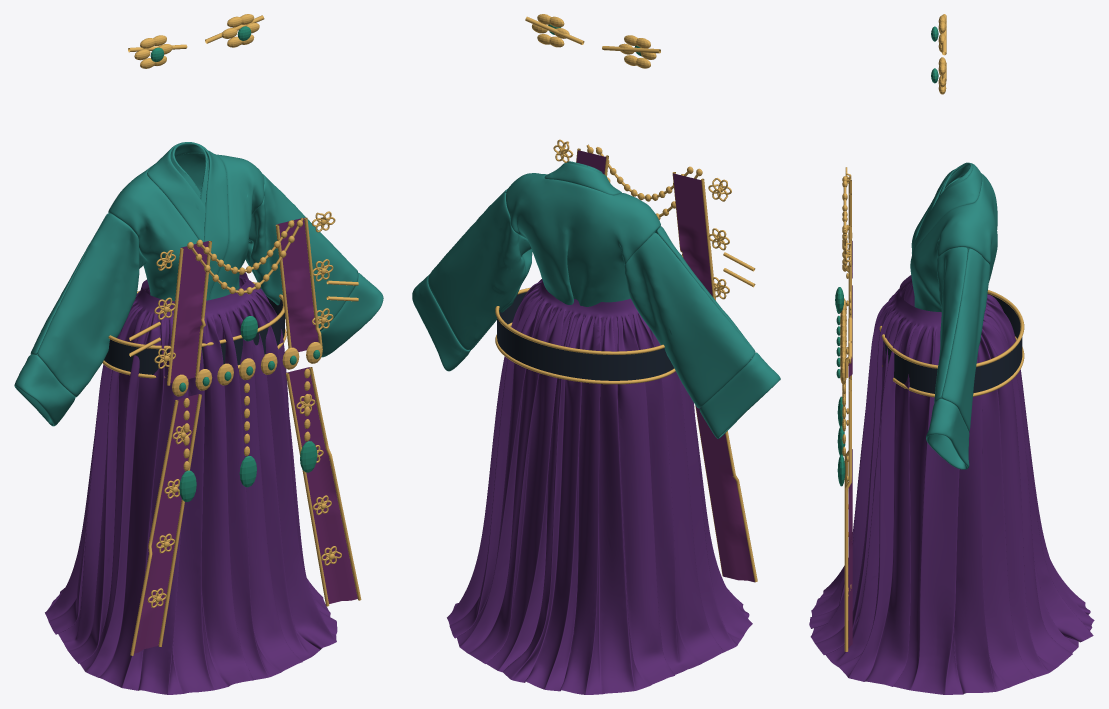
3 renders of one model, left to right at view 1: azimuth 30°, elevation 25°; view 2: azimuth 150°, elevation 25°; view 3: azimuth 270°, elevation 25°, orthographic.
Parts seen in each view (by area): view 1: CL_24CL0007_High; view 2: CL_24CL0007_High; view 3: CL_24CL0007_High.
Part boxes in pixels (bbox=[...]): CL_24CL0007_High: bbox=[14, 14, 383, 694]; CL_24CL0007_High: bbox=[412, 14, 780, 694]; CL_24CL0007_High: bbox=[809, 14, 1094, 694].
Size of the model in its own units: 1.09 by 1.72 by 0.7489.
